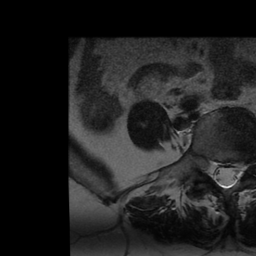CCS_normal: (223, 156, 232, 192)
LFS_severe_stenosis: (244, 153, 254, 181)
LLS_normal: (233, 156, 243, 186)
RFS_normal: (204, 149, 214, 185)
RLS_normal: (215, 157, 223, 189)
